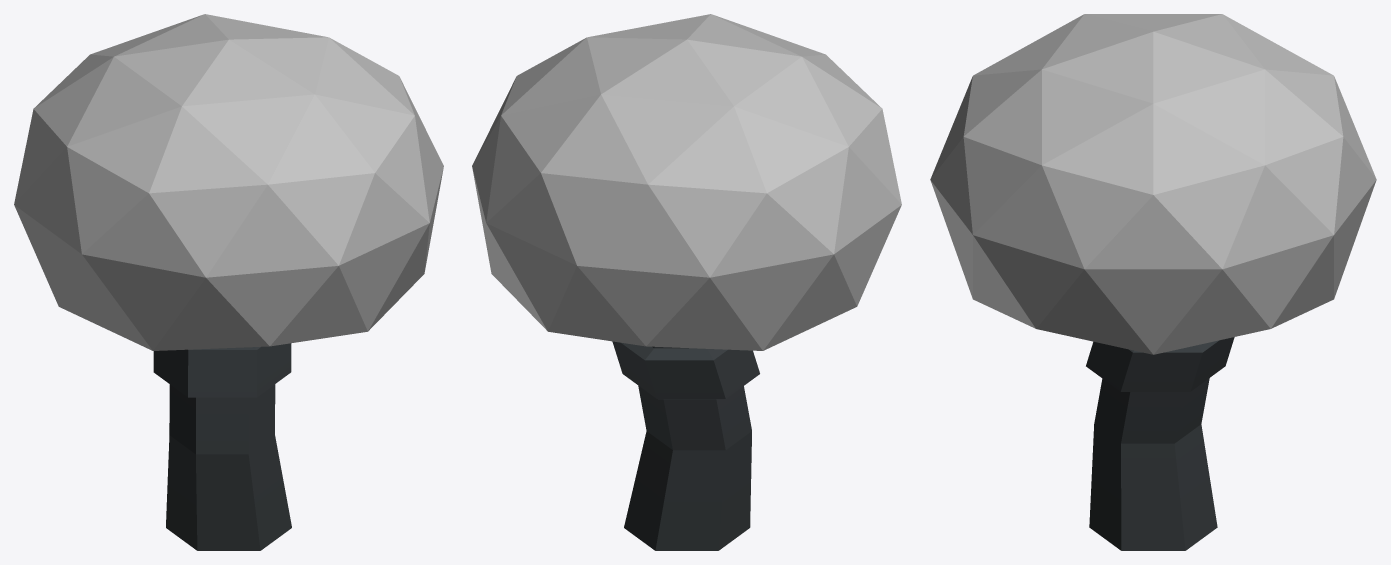
The model's file is Mushroom_02.fbx.
The picture shows the model from 3 angles, left to right: view 1: azimuth 30°, elevation 25°; view 2: azimuth 150°, elevation 25°; view 3: azimuth 270°, elevation 25°; orthographic projection.
Visible parts, largest first — view 1: Mushroom_02; view 2: Mushroom_02; view 3: Mushroom_02.
Part boxes in pixels (x1,y1,x2,y2): Mushroom_02: [14, 14, 443, 550]; Mushroom_02: [472, 14, 901, 550]; Mushroom_02: [930, 14, 1376, 550].
Bounding box in the file's own units: 0.2701 × 0.3481 × 0.284.
